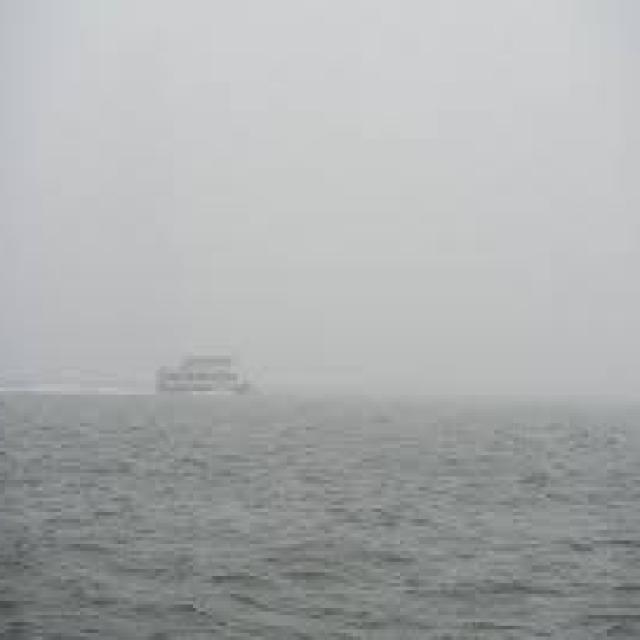passenger ship: (144, 344, 249, 416)
